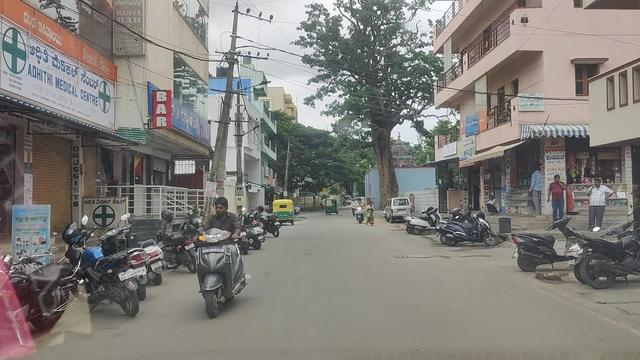LMV: (197, 196, 238, 321)
RoadDamages: (387, 247, 443, 262)
